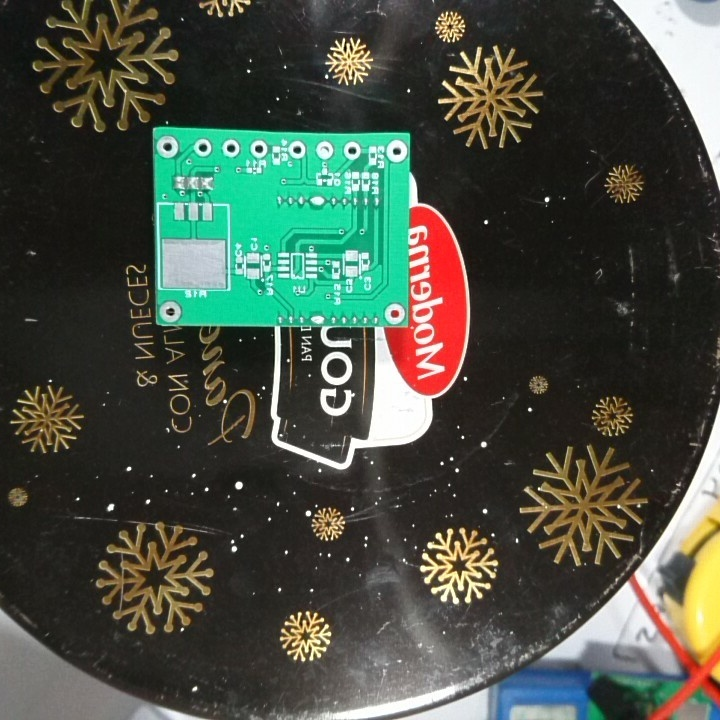F: (153, 132, 182, 160), (383, 137, 407, 166), (157, 299, 184, 323), (382, 300, 407, 325), (313, 138, 336, 163), (219, 138, 244, 160), (247, 137, 269, 161), (193, 135, 214, 159), (340, 140, 363, 161), (287, 140, 308, 161)
P: (307, 192, 327, 209), (309, 311, 329, 328)
